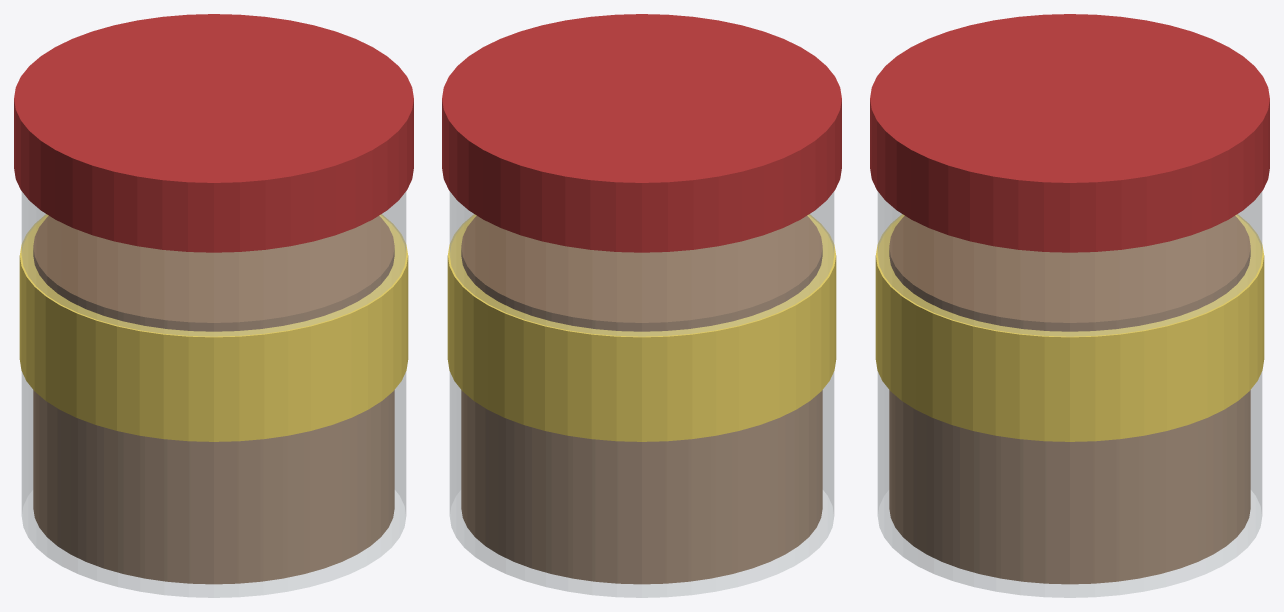
The model's file is rendang.glb.
3 views of the same model, side by side, from view 1: azimuth 30°, elevation 25°; view 2: azimuth 150°, elevation 25°; view 3: azimuth 270°, elevation 25° (orthographic).
Visible parts, largest first — view 1: toples, tutup, rendang, label; view 2: toples, tutup, rendang, label; view 3: toples, tutup, rendang, label.
Part boxes in pixels (bbox=[...]): toples: bbox=[21, 192, 406, 597]; tutup: bbox=[14, 14, 413, 252]; rendang: bbox=[33, 216, 394, 584]; label: bbox=[19, 214, 408, 441]; toples: bbox=[449, 192, 834, 597]; tutup: bbox=[442, 14, 841, 252]; rendang: bbox=[461, 216, 822, 584]; label: bbox=[447, 214, 836, 441]; toples: bbox=[877, 192, 1262, 597]; tutup: bbox=[870, 14, 1269, 252]; rendang: bbox=[889, 216, 1250, 584]; label: bbox=[875, 214, 1264, 441].
Bounding box in the file's own units: 0.104 × 0.12 × 0.104.
